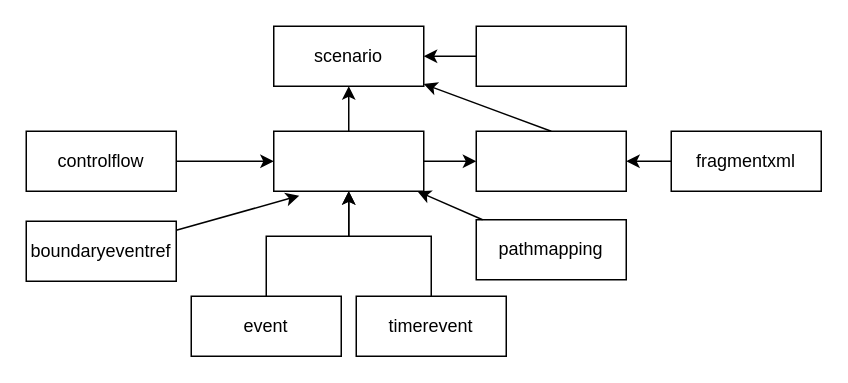
This 848x383 diagram has some shape labels left out. The shapes that lost their labels are listed below. From the top down, each one's centre as x and y in pixels, then its label:
At pixel 550 55: "startquery".
At pixel 348 160: "controlnode".
At pixel 550 160: "fragment".
